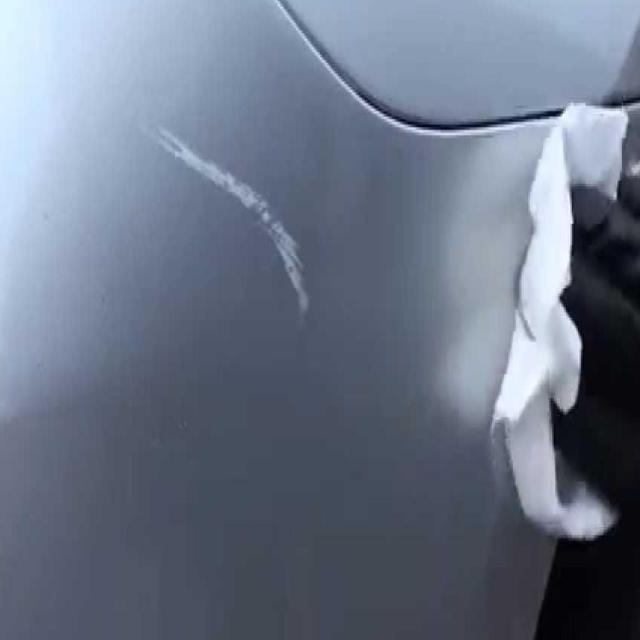scratch: (148, 115, 318, 325)
